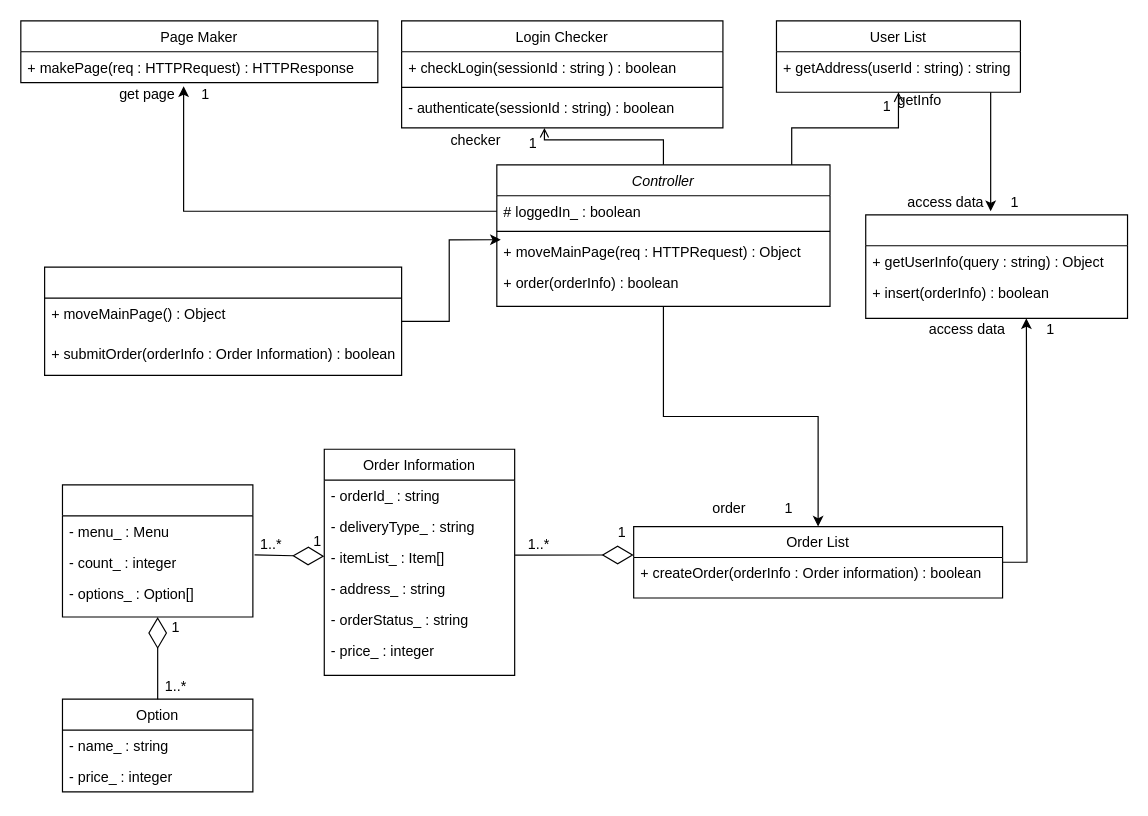
Some shapes in this 1148 by 816 pixel diagram are drawn without their labels. Each missing label, with the box of its shape:
Database: (865, 214, 1128, 318)
Interface Page: (43, 266, 402, 375)
Item: (61, 484, 253, 617)
